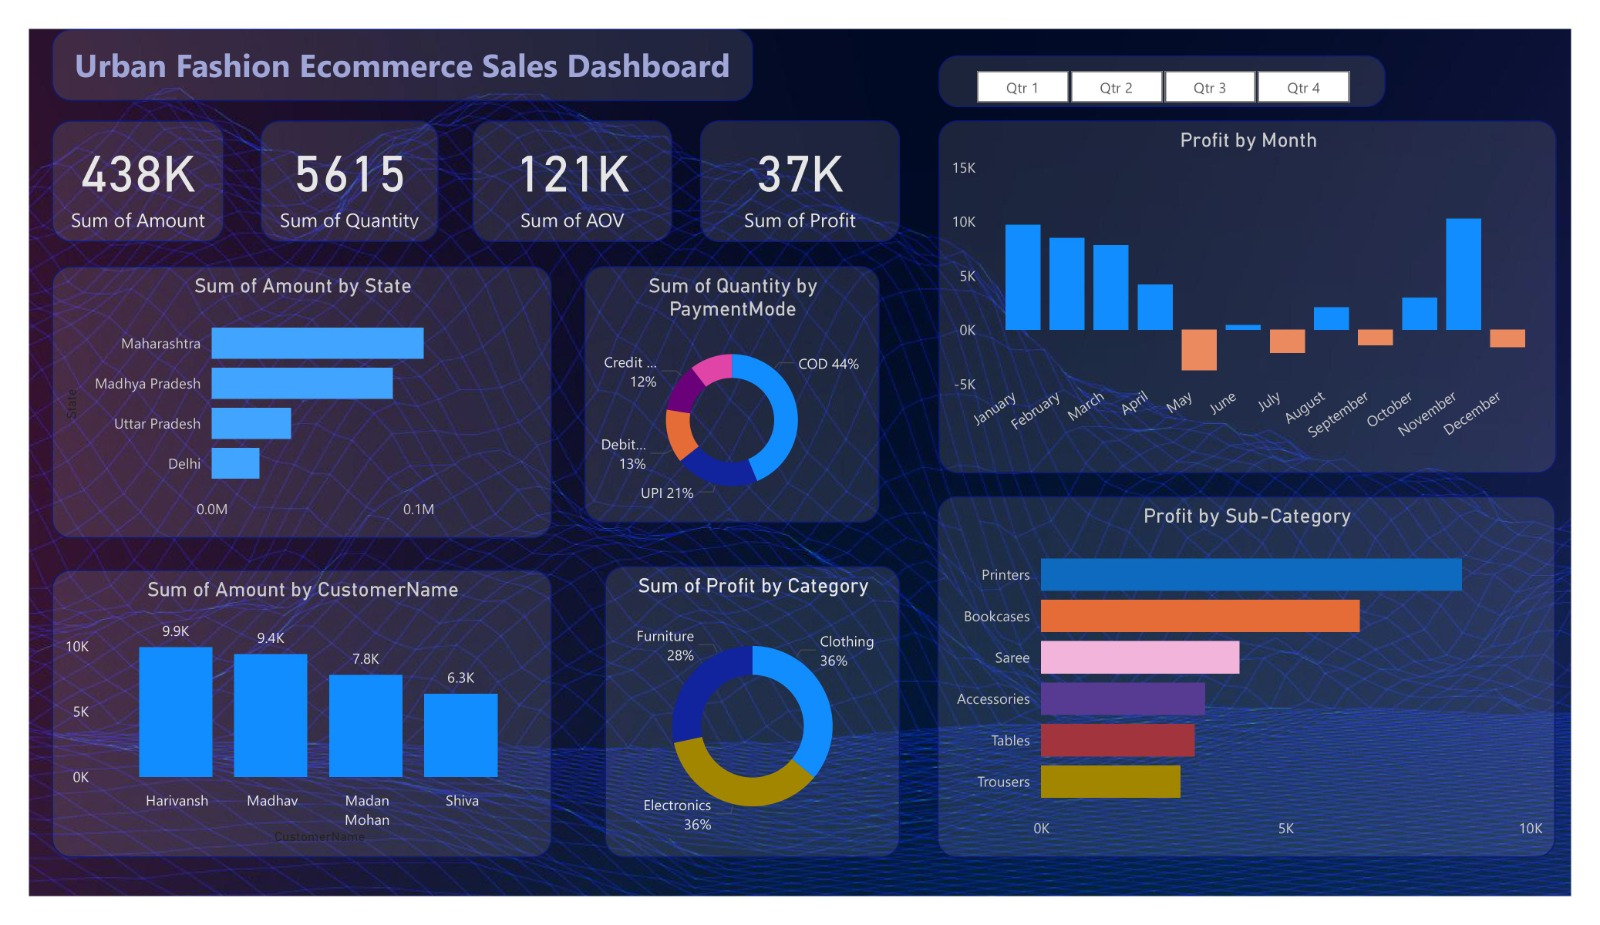

The dashboard page shown, as its layout file describes it:
{"tool":"powerbi","page":{"name":"Page 1","canvas":[1280,720],"ordinal":0},"visuals":[{"type":"textbox","box":[19.3,0,581.5,60.3],"z":0},{"type":"columnChart","title":" Profit by Month","fields":{"Category":["Orders.Order Date.Variation.Date Hierarchy.Month"],"Y":["Sum(Details.Profit)"]},"box":[755.2,76,512.7,293.2],"z":1000},{"type":"barChart","title":" Profit by Sub-Category","fields":{"Category":["Details.Sub-Category"],"Y":["Sum(Details.Profit)"]},"box":[754,388.5,512.7,299.2],"z":2000},{"type":"donutChart","fields":{"Category":["Details.Category"],"Y":["Sum(Details.Profit)"]},"box":[477.8,446.4,244.9,241.3],"z":3000},{"type":"donutChart","fields":{"Category":["Details.PaymentMode"],"Y":["Sum(Details.Quantity)"]},"box":[460.9,196.6,244.9,213.5],"z":4000},{"type":"card","fields":{"Values":["Sum(Details.Amount)"]},"box":[19.3,76,142.4,101.3],"z":5000},{"type":"card","fields":{"Values":["Sum(Details.Profit)"]},"box":[557.4,76,165.3,101.3],"z":6000},{"type":"card","fields":{"Values":["Sum(Details.Quantity)"]},"box":[191.8,76,148.4,101.3],"z":7000},{"type":"card","fields":{"Values":["Sum(Details.AOV)"]},"box":[368,76,166.5,101.3],"z":8000},{"type":"barChart","title":"Sum of Amount by State","fields":{"Category":["Orders.State"],"Y":["Sum(Details.Amount)"]},"box":[19.3,196.6,415,226.8],"z":9000},{"type":"columnChart","fields":{"Category":["Orders.CustomerName"],"Y":["Sum(Details.Amount)"]},"box":[19.3,448.8,415,238.9],"z":10000},{"type":"slicer","fields":{"Values":["Orders.Order Date.Variation.Date Hierarchy.Quarter"]},"box":[755.2,21.7,370.4,43.4],"z":11000}]}

Visuals, with their boxes in screenshot pixels (x1, y1, x2, y2), scaled from the page's 1280x720 canvas onto the 1600x925 screenshot:
textbox: x1=24 y1=0 x2=751 y2=77
" Profit by Month" columnChart: x1=944 y1=98 x2=1585 y2=474
" Profit by Sub-Category" barChart: x1=942 y1=499 x2=1583 y2=884
donutChart - Details.Category x Sum(Details.Profit): x1=597 y1=574 x2=903 y2=884
donutChart - Details.PaymentMode x Sum(Details.Quantity): x1=576 y1=253 x2=882 y2=527
card - Sum(Details.Amount): x1=24 y1=98 x2=202 y2=228
card - Sum(Details.Profit): x1=697 y1=98 x2=903 y2=228
card - Sum(Details.Quantity): x1=240 y1=98 x2=425 y2=228
card - Sum(Details.AOV): x1=460 y1=98 x2=668 y2=228
"Sum of Amount by State" barChart: x1=24 y1=253 x2=543 y2=544
columnChart - Orders.CustomerName x Sum(Details.Amount): x1=24 y1=577 x2=543 y2=884
slicer - Orders.Order Date.Variation.Date Hierarchy.Quarter: x1=944 y1=28 x2=1407 y2=84
